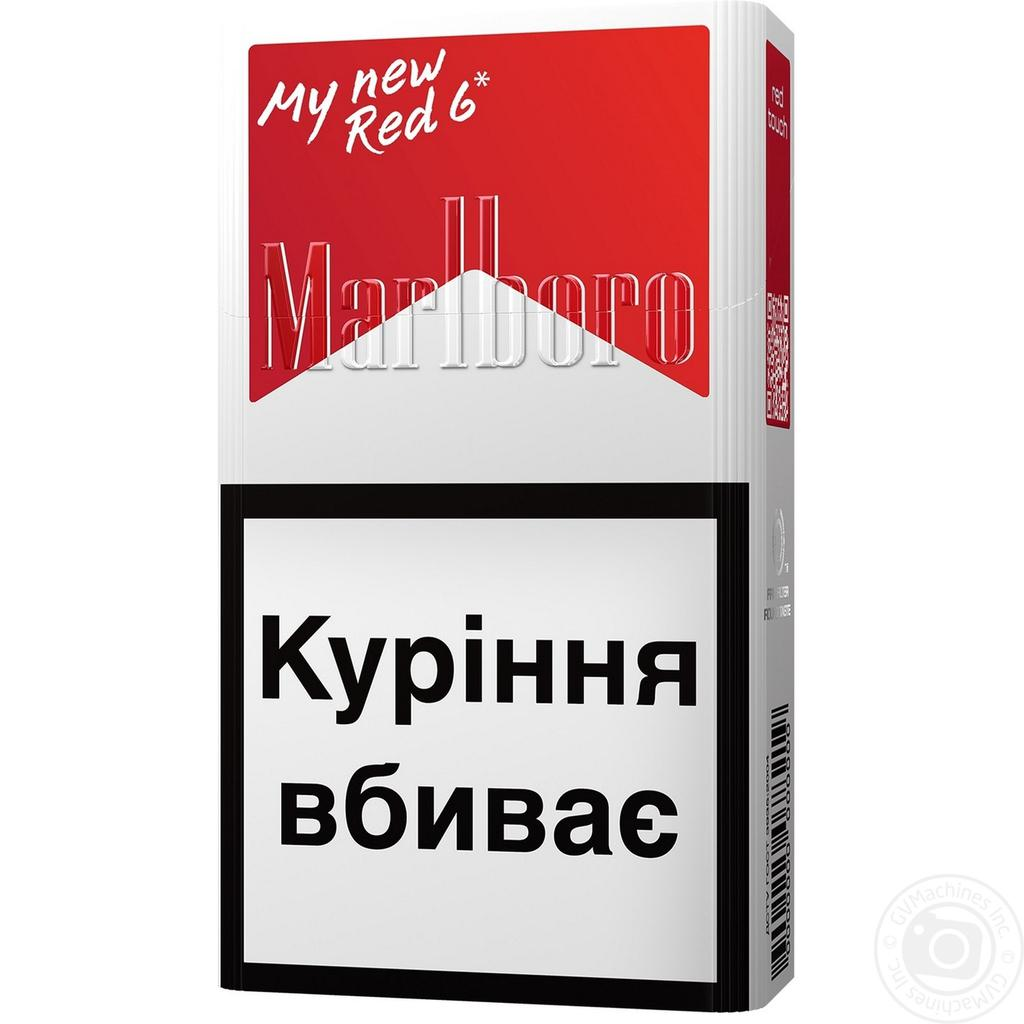marlboro_red: (221, 36, 742, 993)
